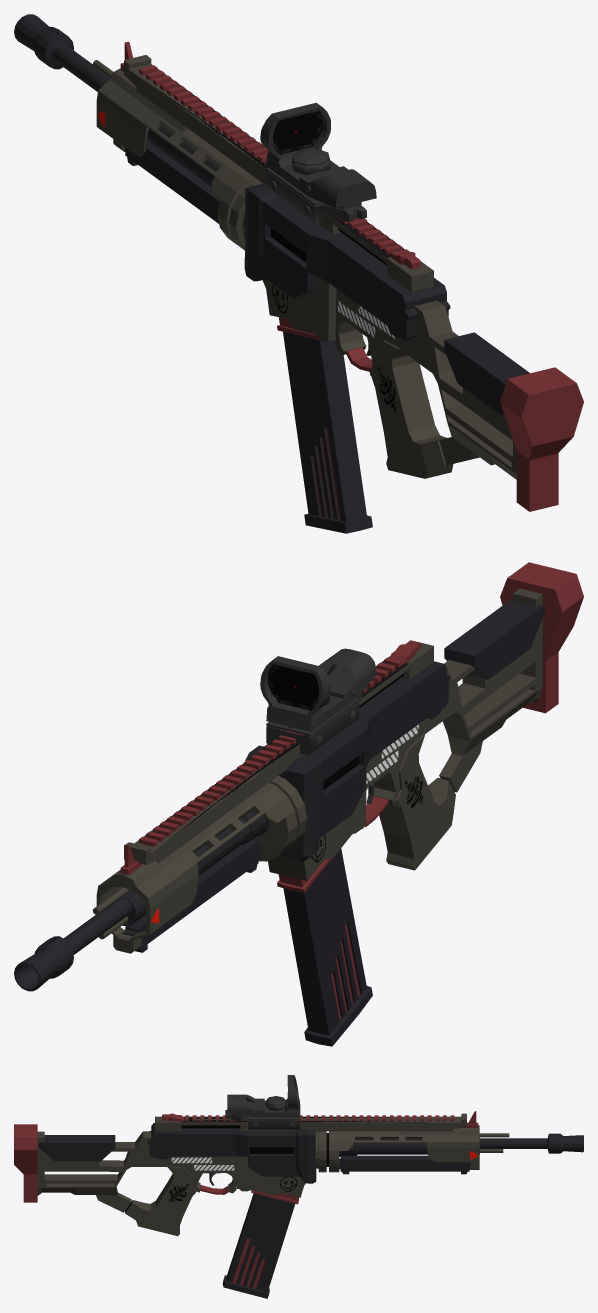
Rendered from Scar_Gun.fbx.
3 views of the same model, one above another, from view 1: azimuth 30°, elevation 25°; view 2: azimuth 150°, elevation 25°; view 3: azimuth 270°, elevation 25° (orthographic). The views are drawn at different scales.
Parts seen in each view (by area): view 1: Cube.002, Cube.001, Collimator_Body, Cube.005, Collimator_AimGlass; view 2: Cube.002, Cube.001, Collimator_Body, Cube.005, Collimator_AimGlass; view 3: Cube.002, Cube.001, Collimator_Body, Cube.005.
Part boxes in pixels (bbox=[...]): Cube.002: bbox=[14, 14, 583, 511]; Cube.001: bbox=[277, 317, 372, 533]; Collimator_Body: bbox=[260, 102, 376, 224]; Cube.005: bbox=[139, 65, 402, 254]; Collimator_AimGlass: bbox=[273, 110, 322, 154]; Cube.002: bbox=[14, 562, 583, 991]; Cube.001: bbox=[277, 848, 372, 1046]; Collimator_Body: bbox=[260, 648, 376, 755]; Cube.005: bbox=[139, 657, 402, 846]; Collimator_AimGlass: bbox=[268, 664, 319, 710]; Cube.002: bbox=[14, 1111, 583, 1236]; Cube.001: bbox=[222, 1190, 298, 1298]; Collimator_Body: bbox=[225, 1075, 300, 1129]; Cube.005: bbox=[185, 1115, 454, 1121].
Bounding box in the file's own units: 0.0979 × 0.5185 × 1.25.
